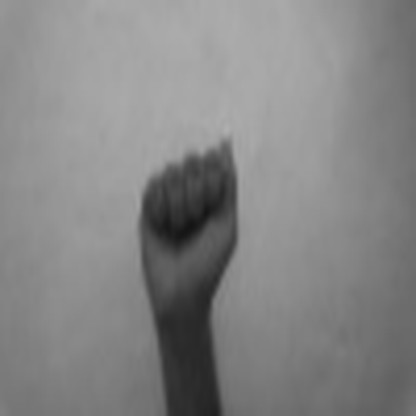a: (133, 130, 242, 313)
